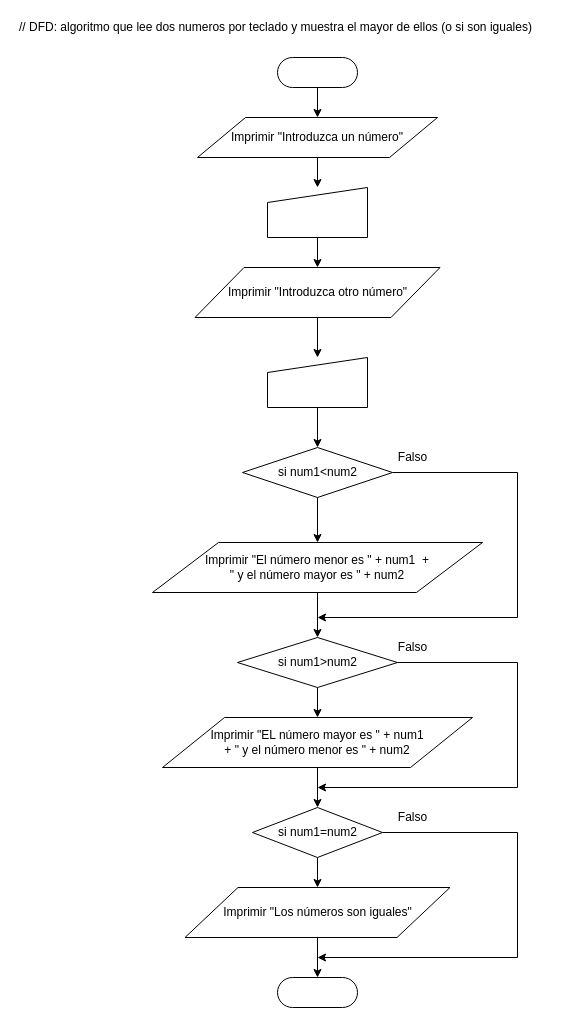
Some shapes in this 564 by 1025 pixel diagram are drawn without their labels. Here are the shapes that lost their labels. From the top down, the centre of each, then its label:
At point 317,72: "Inicio".
At point 317,212: "Leer num1".
At point 317,382: "Leer num2".
At point 317,992: "Fin".
